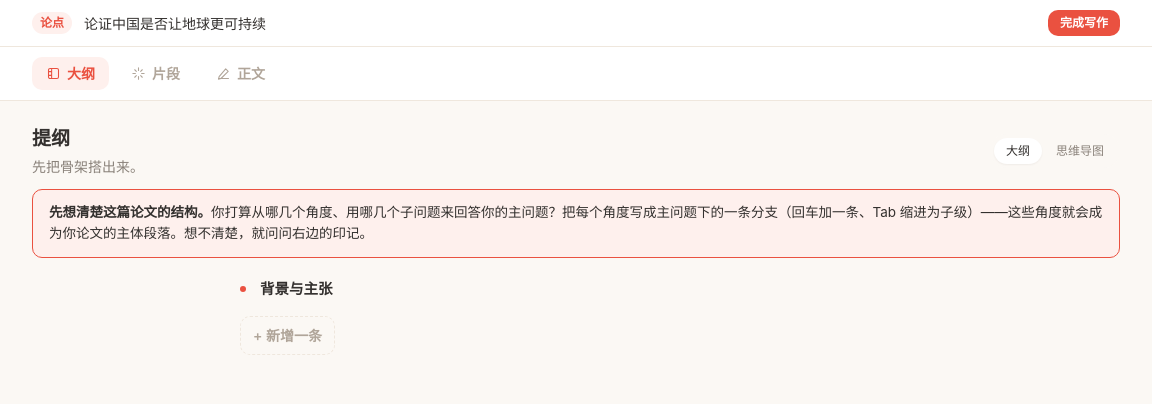
WritingBlock · 整稿体检 (WA) › 片段 board: the live outline is not auto-rendered as a section (#6)
The width and height of the screenshot is (1152, 404).
Click the button "片段": click(156, 74) [117, 57, 194, 90]
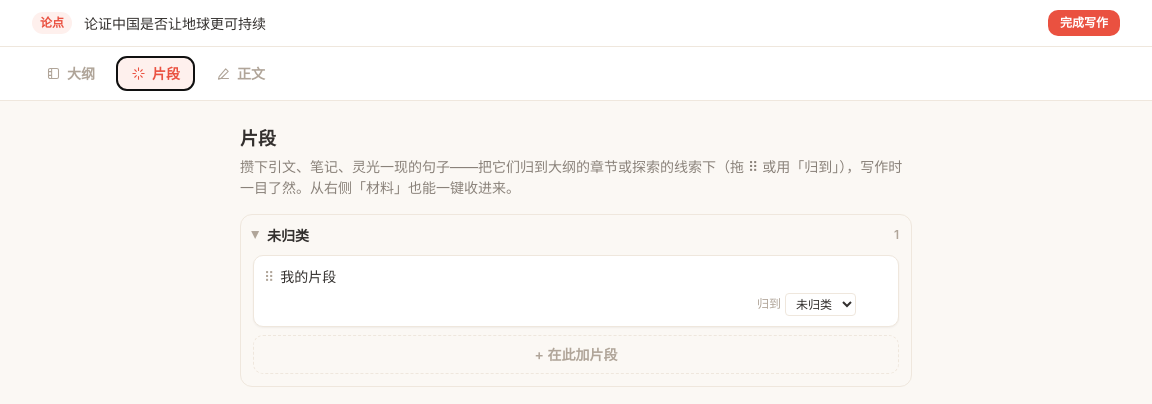
Check: the text "背景与主张" is not shown
Check: the button "我的片段" is shown, box [280, 266, 888, 289]
